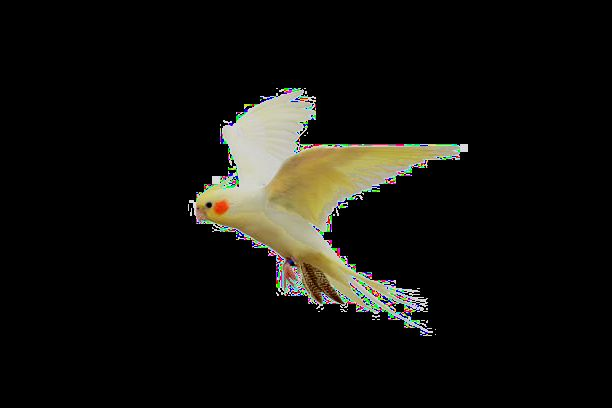Bird: (187, 82, 469, 341)
